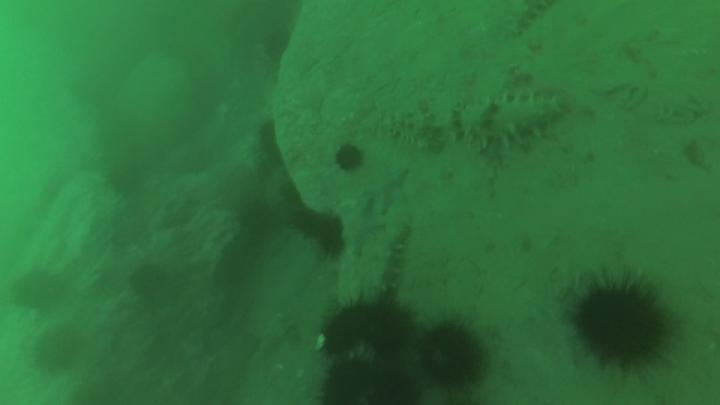echinus: (580, 289, 665, 362), (424, 326, 483, 387), (365, 352, 425, 403), (360, 301, 413, 349), (321, 360, 369, 405), (34, 327, 78, 373), (14, 270, 58, 311), (321, 309, 361, 352), (131, 266, 162, 297), (335, 143, 364, 173), (316, 220, 341, 254), (293, 209, 317, 233)
holothurian: (456, 99, 563, 146), (366, 217, 410, 292), (388, 112, 440, 154), (509, 2, 547, 39)
